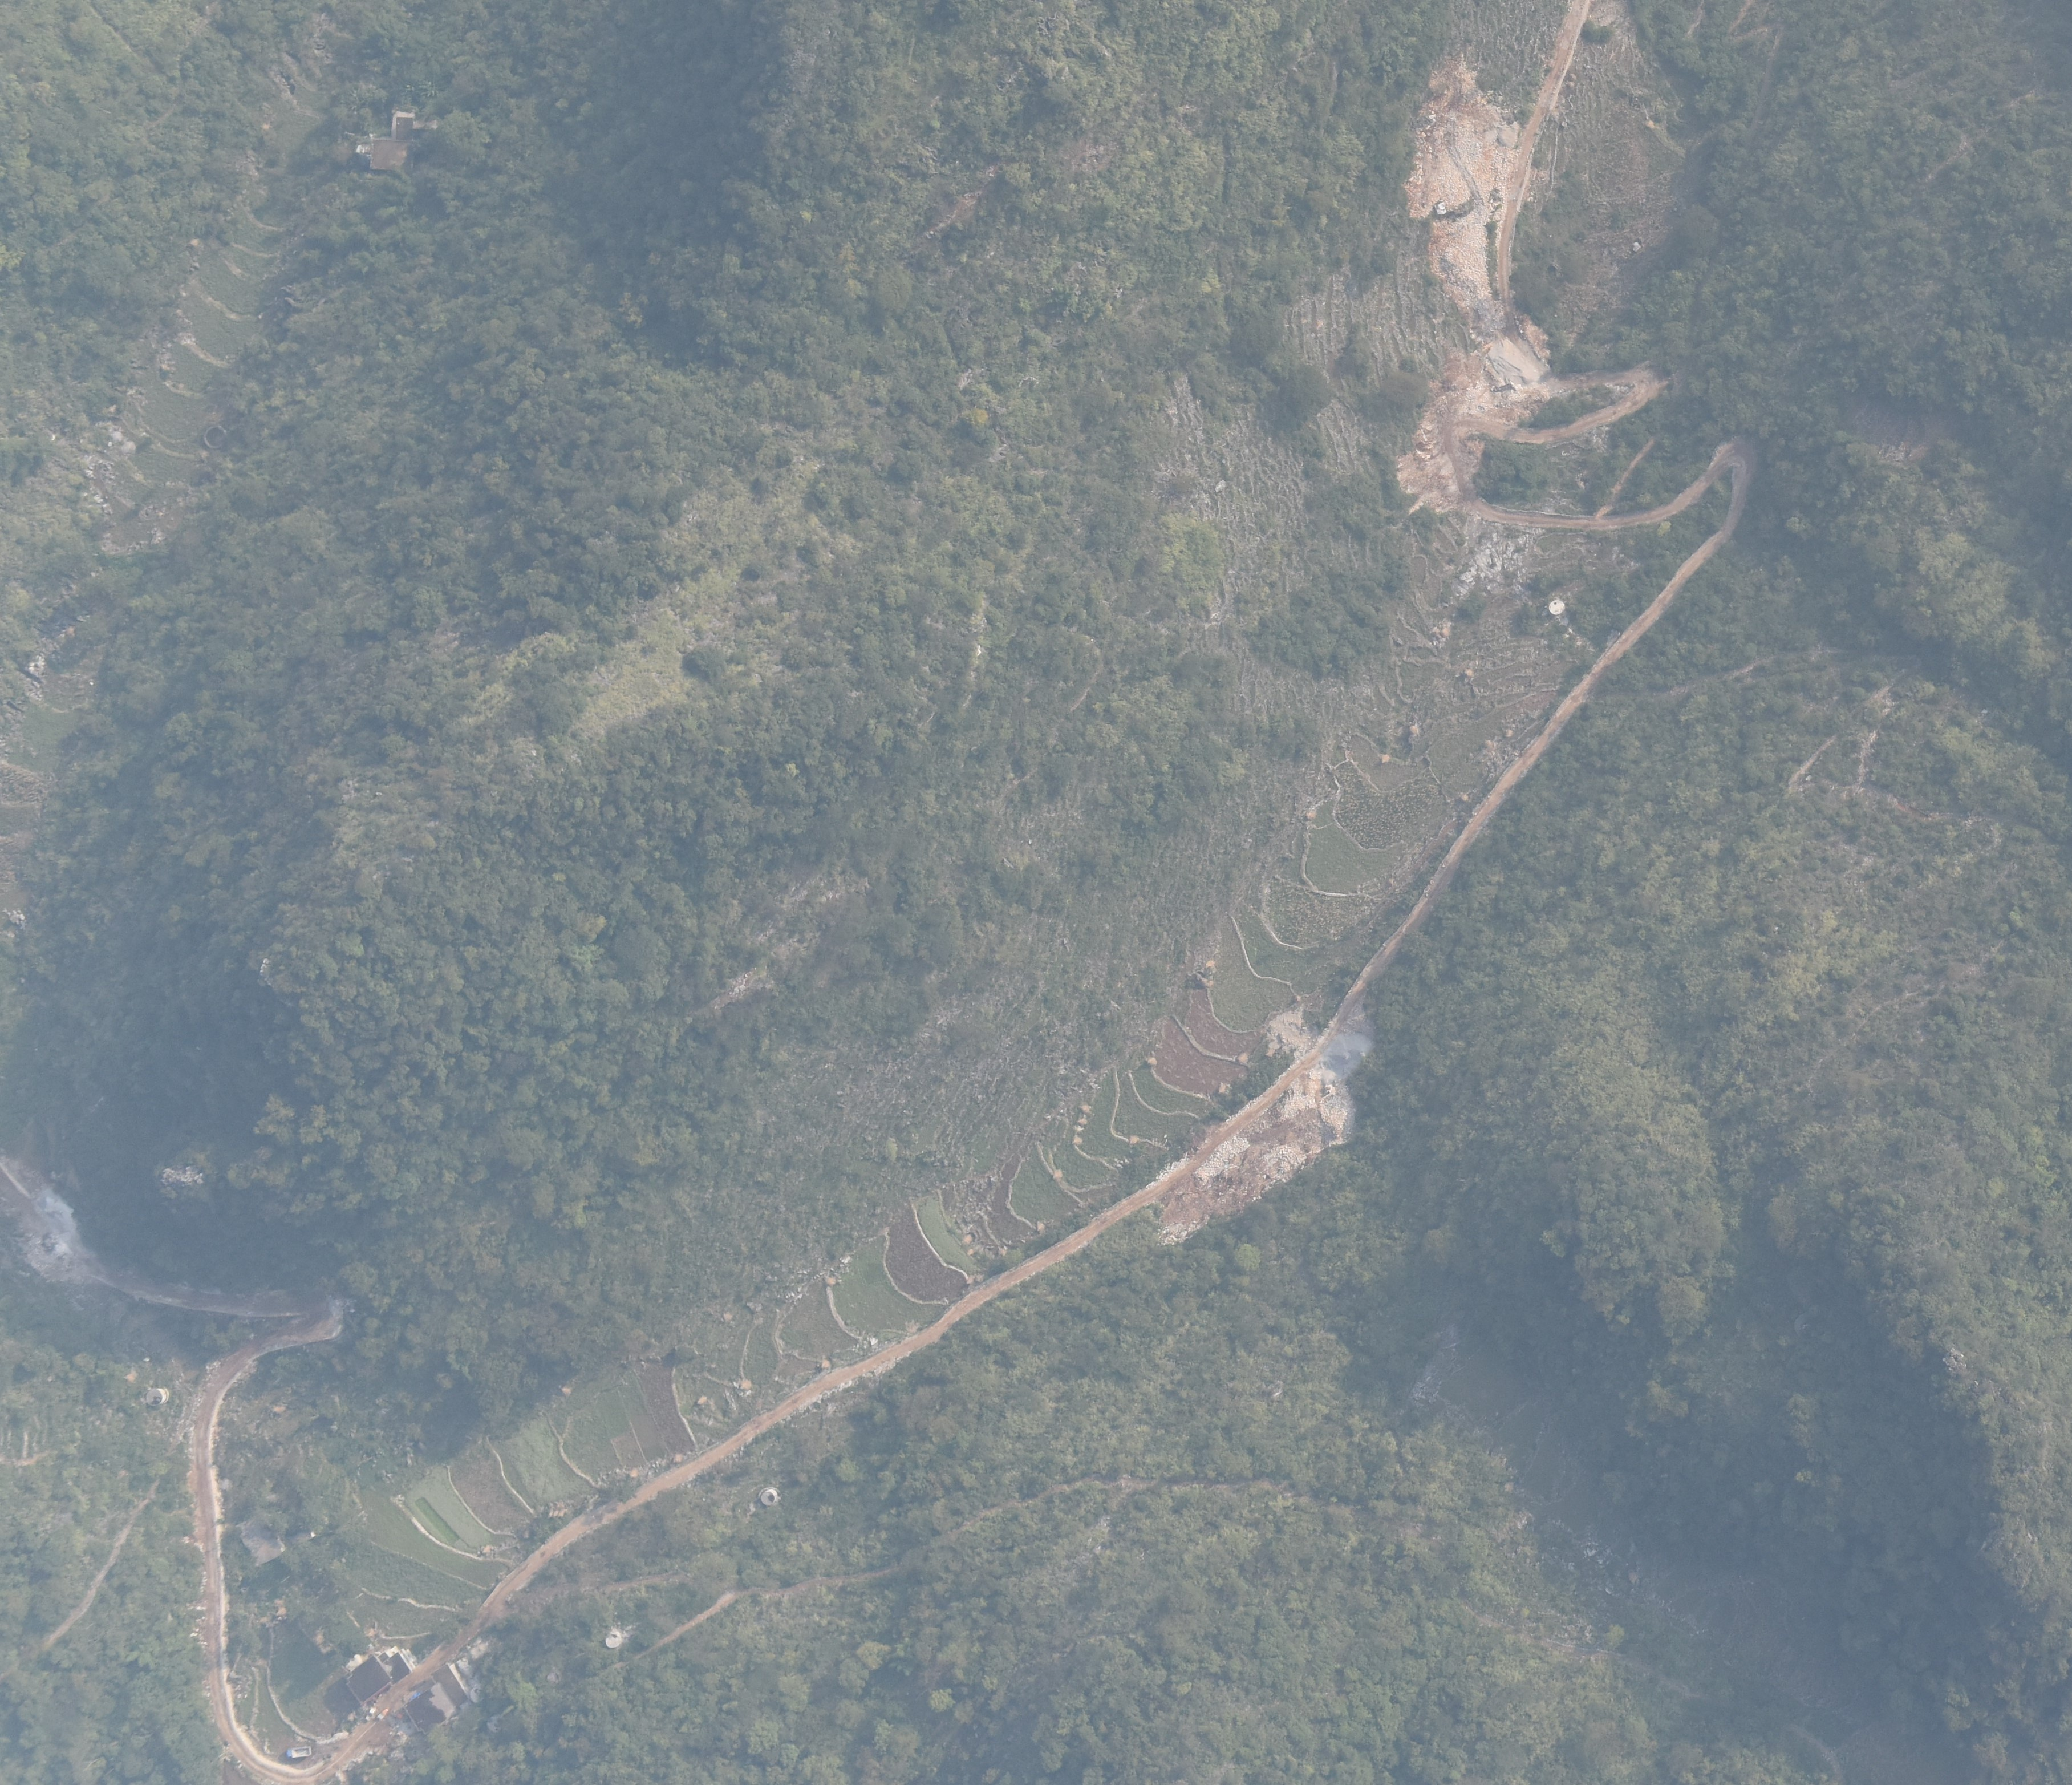building: (396, 1682, 464, 1734), (232, 1515, 287, 1570), (339, 1658, 394, 1708), (430, 1658, 473, 1709), (378, 1645, 418, 1685)
quarry: (1157, 1062, 1372, 1248), (1401, 70, 1539, 341)
vehicle: (286, 1745, 318, 1760)
well: (144, 1387, 173, 1407), (604, 1630, 622, 1652), (469, 1687, 490, 1705), (759, 1487, 777, 1507), (1548, 599, 1568, 615)
